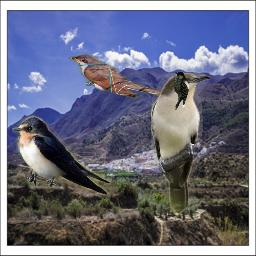Cuckoo: (151, 73, 211, 215), (68, 52, 171, 102)
Swallow: (12, 115, 111, 198)
Woodpecker: (174, 71, 189, 110)
